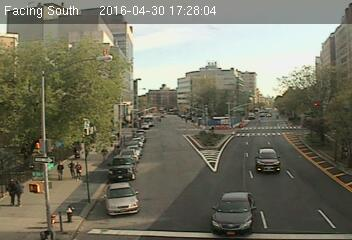neg: (231, 196, 250, 221), (333, 143, 349, 164), (60, 203, 74, 222), (201, 152, 215, 171), (194, 115, 207, 133), (301, 117, 314, 135), (262, 152, 275, 168), (122, 116, 133, 131), (245, 110, 256, 125), (213, 115, 224, 129)
pos: (8, 178, 30, 207), (65, 159, 80, 180), (53, 160, 68, 179), (99, 144, 113, 164), (72, 160, 86, 178)
